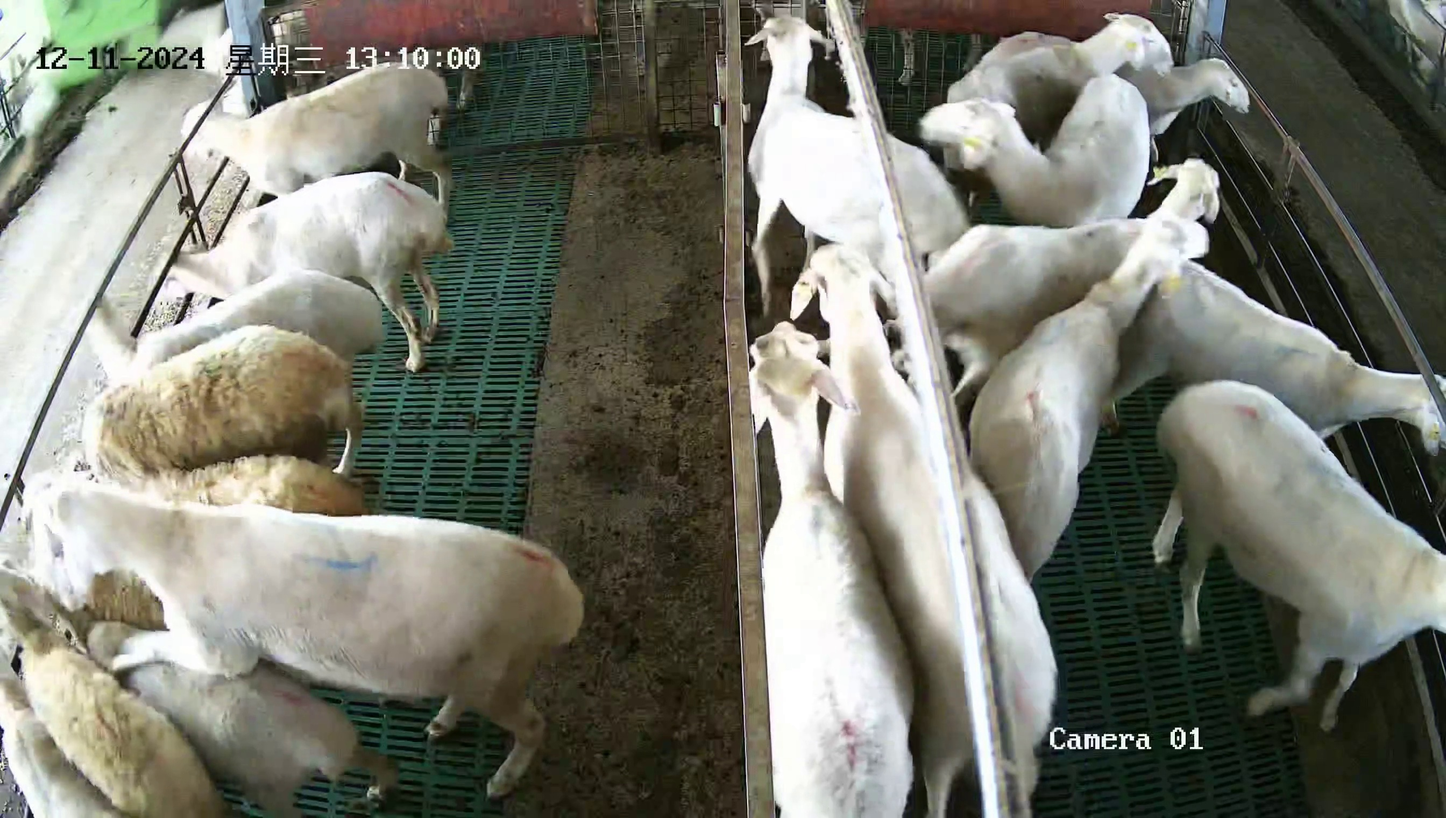Nmounting: (19, 482, 589, 798)
